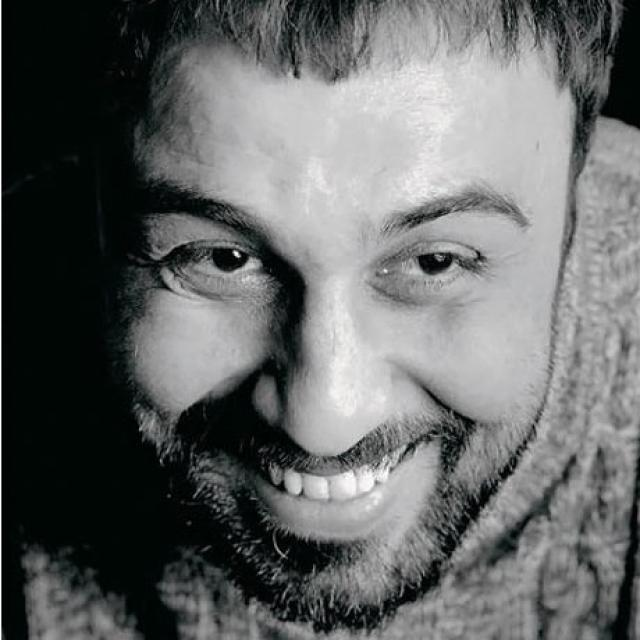Normal: (108, 35, 577, 624)
